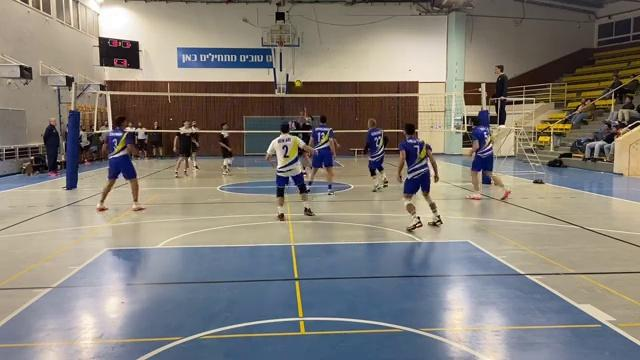ball: (293, 78, 306, 89)
